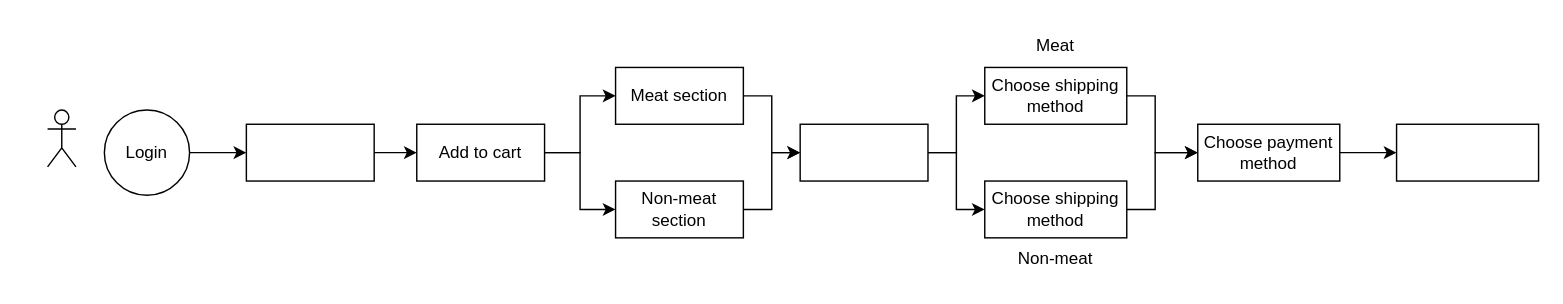
This 1563x304 diagram has some shape labels left out. Each missing label, with the centre of its shape:
"Address Information" goes at (x=863, y=152).
"Check out" goes at (x=1467, y=152).
"Choose goods" goes at (x=309, y=152).
"Customer" goes at (x=61, y=138).
